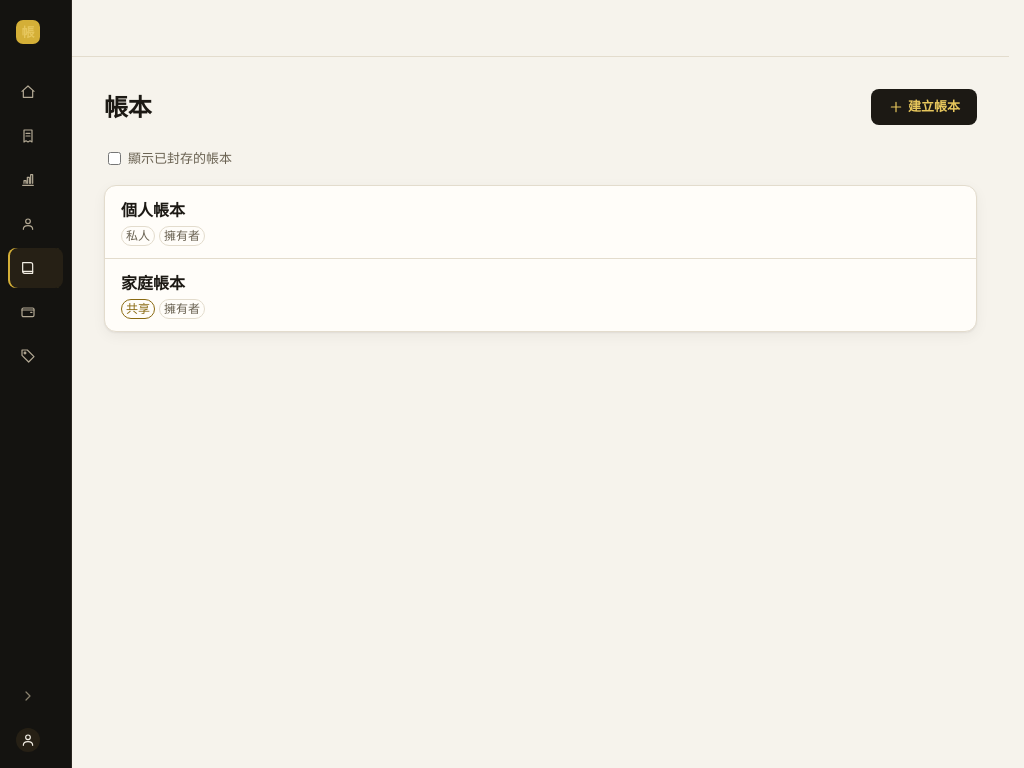
Test case: Ledgers page › asks the server for archived ledgers only when the box is ticked
Expected: the link "個人帳本" is shown, [121,198,185,220]
Expected: the link "舊帳本" is not shown
Click the checkbox labelled "顯示已封存的帳本": (114, 159) [108,152,121,165]
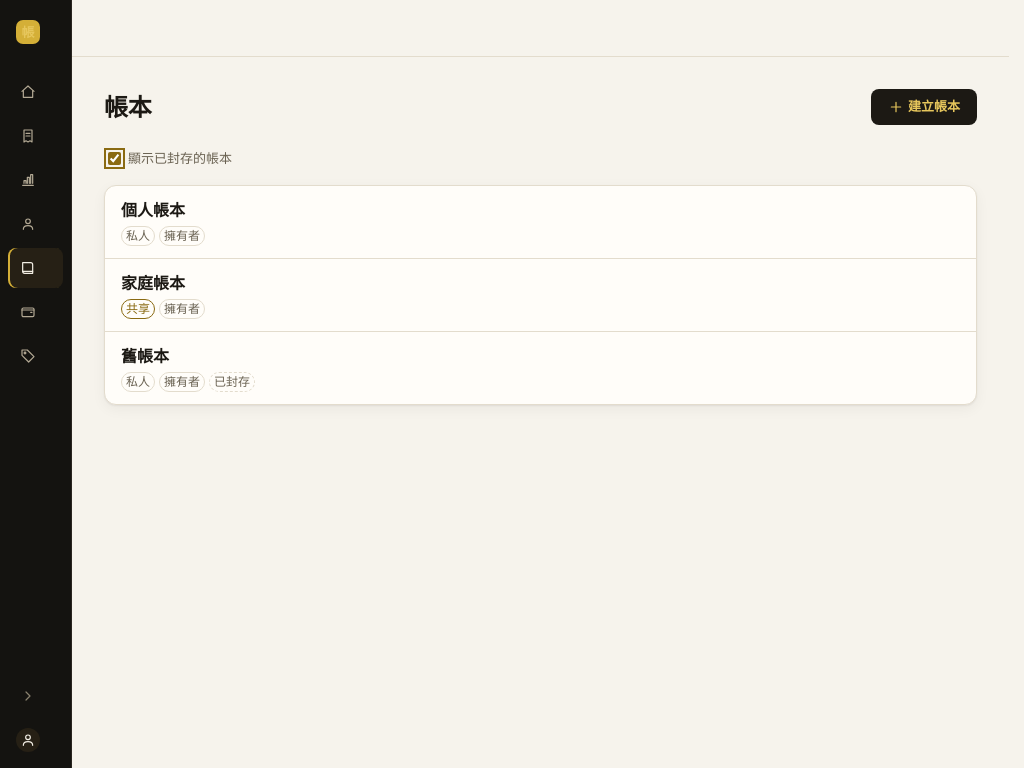
Result: the link "舊帳本" is shown at [121,344,169,366]
Result: the text "已封存" is shown at [209,372,255,392]
